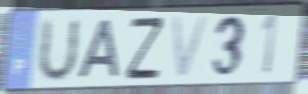1: (259, 12, 279, 77)
3: (209, 12, 253, 80)
A: (75, 18, 122, 81)
U: (34, 16, 82, 86)
V: (168, 12, 213, 82)
Z: (124, 14, 166, 82)
